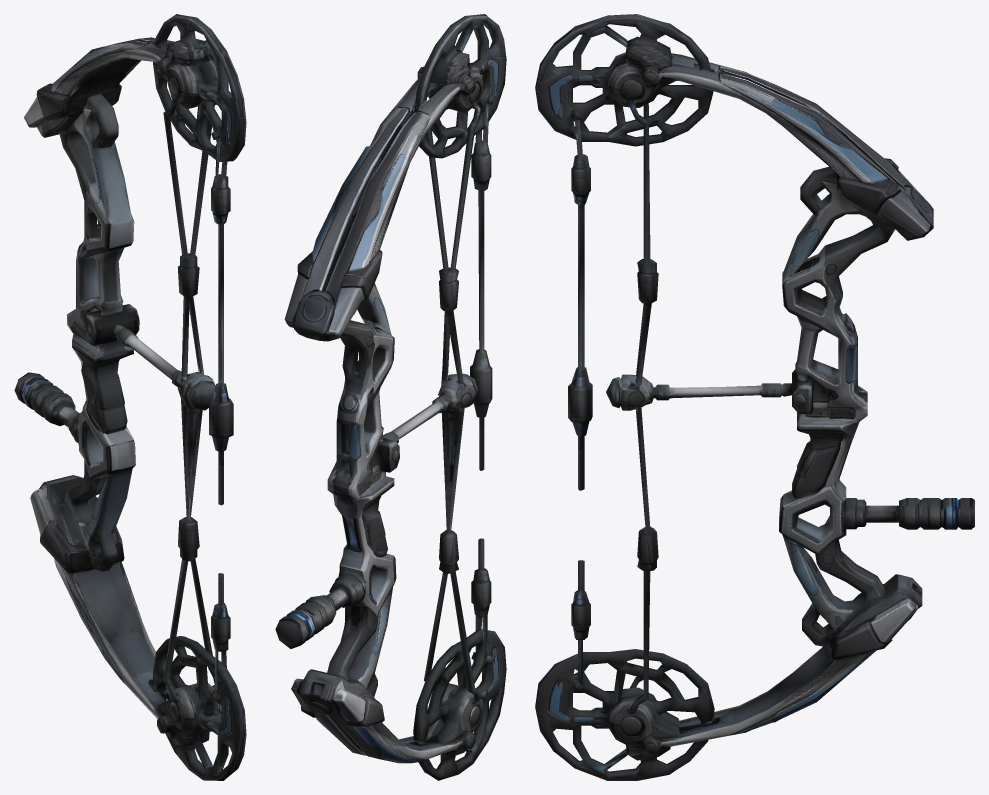
Rendered from bow_composite.fbx.
The picture shows the model from 3 angles, left to right: view 1: azimuth 30°, elevation 25°; view 2: azimuth 150°, elevation 25°; view 3: azimuth 270°, elevation 25°; orthographic projection. The views are drawn at different scales.
Parts seen in each view (by area): view 1: bow_composite; view 2: bow_composite; view 3: bow_composite.
Part boxes in pixels (x1=…): bow_composite: x1=14, y1=14, x2=246, y2=780; bow_composite: x1=275, y1=14, x2=506, y2=780; bow_composite: x1=535, y1=14, x2=974, y2=780.
Bounding box in the file's own units: 0.0984 × 1.07 × 0.559.
